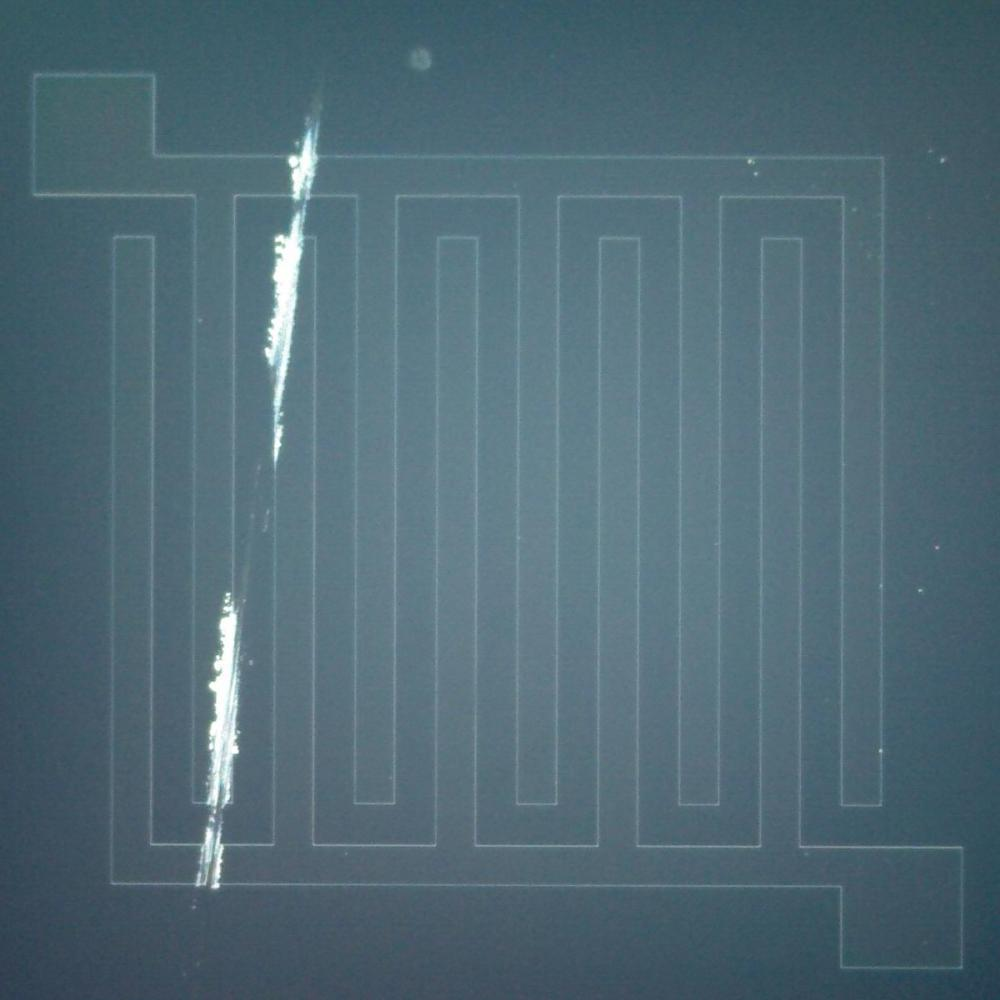scratch: (262, 115, 324, 464), (195, 597, 247, 890)
